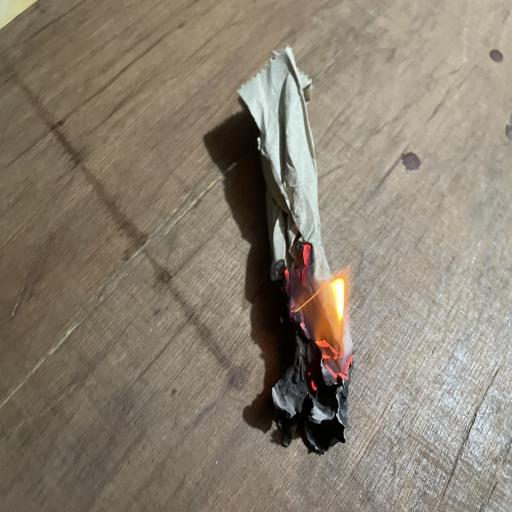fire: (266, 267, 378, 401)
